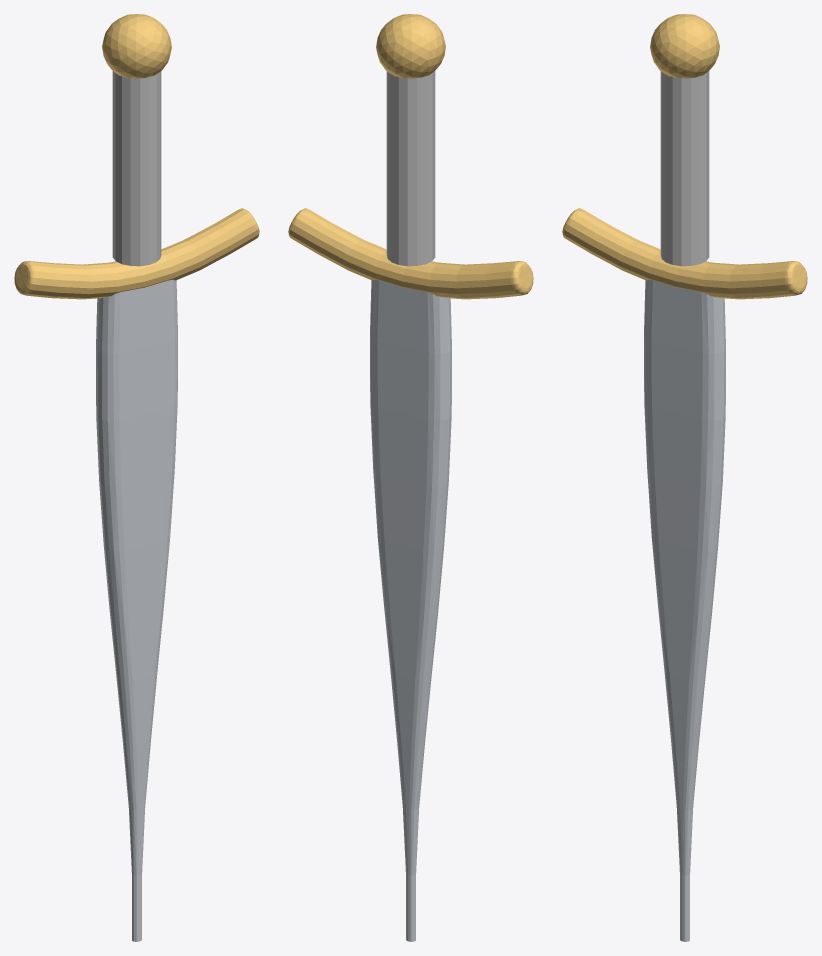
File: PropSword.obj
The picture shows the model from 3 angles, left to right: view 1: azimuth 30°, elevation 25°; view 2: azimuth 150°, elevation 25°; view 3: azimuth 330°, elevation 25°; orthographic projection.
Size of the model in its own units: 0.782 by 2.92 by 0.2.
